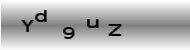9: (61, 25, 75, 40)
Y: (21, 18, 34, 33)
Z: (106, 22, 123, 37)
d: (35, 8, 48, 23)
u: (86, 18, 100, 30)
